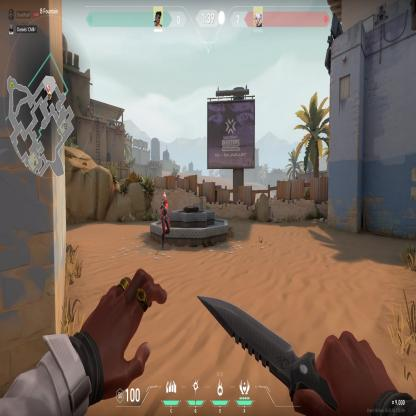enemy: (160, 193, 171, 251)
